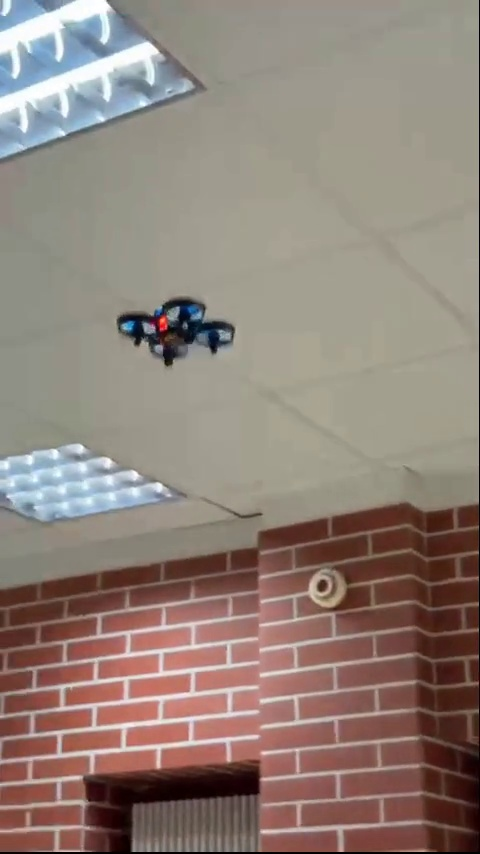drone: (110, 293, 238, 364)
